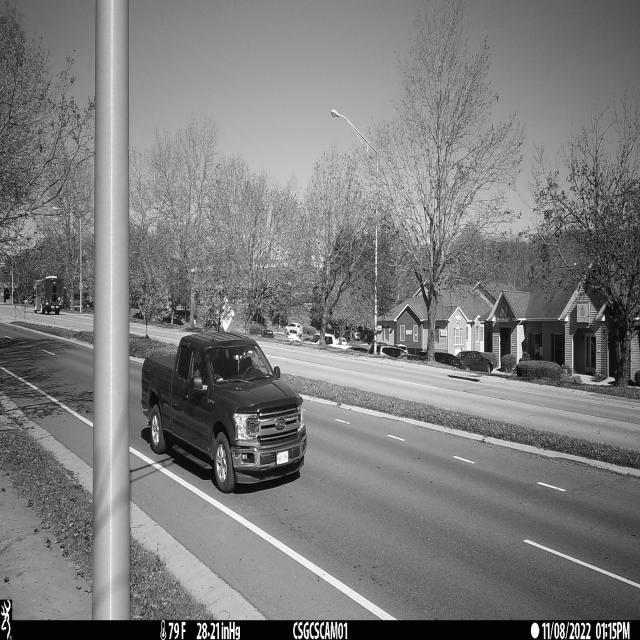Pickup: (141, 333, 307, 494)
